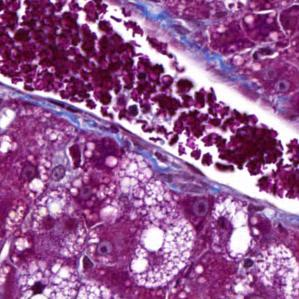ballooning: (127, 201, 198, 290), (236, 241, 299, 298), (14, 260, 83, 299)
